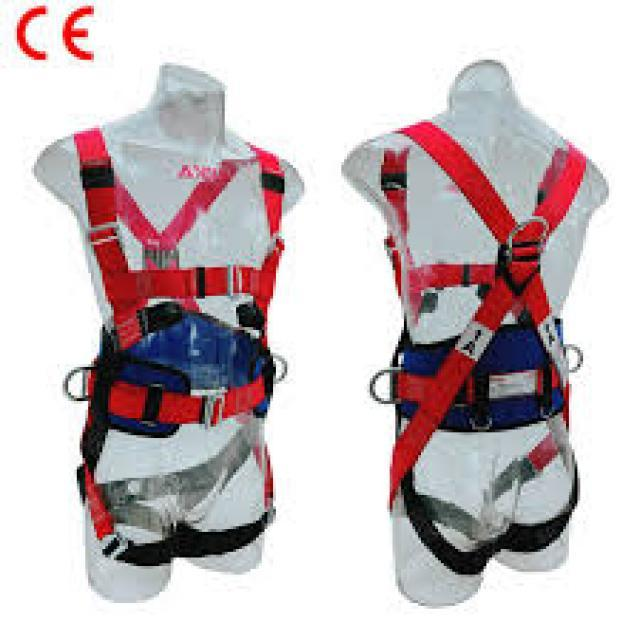belt: (58, 125, 292, 568), (378, 124, 601, 582)
